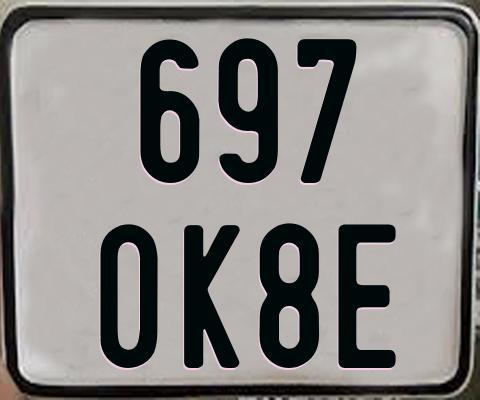0: (97, 221, 161, 370)
6: (138, 38, 201, 188)
7: (297, 37, 357, 187)
8: (256, 222, 318, 372)
9: (215, 36, 275, 183)
E: (335, 221, 398, 369)
K: (182, 223, 243, 371)
